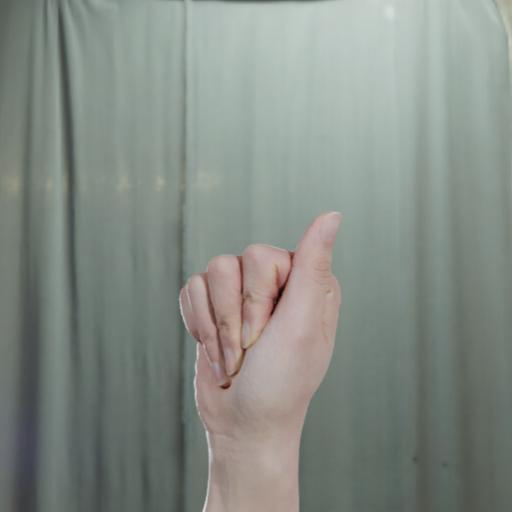A: (145, 198, 369, 439)
